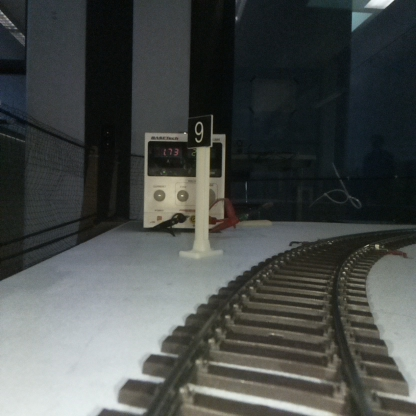black-info-9: (188, 115, 211, 257)
